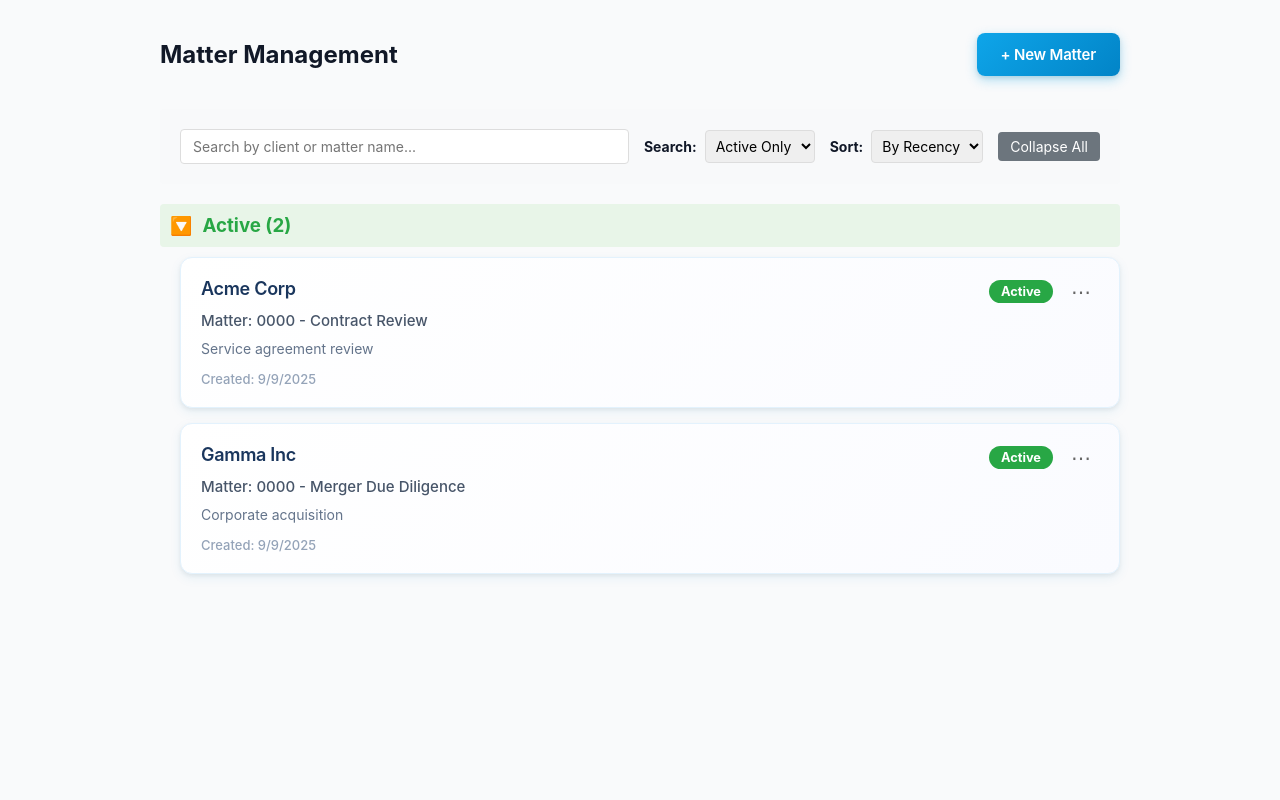
Test: MatterManagement - Search and Collapsible Sections › expands and collapses sections when clicked
Expected: the heading "Active (2)" is shown, 202,214 -> 291,237
# Search scope should default to "All Matters" to see all sections
Select "All Matters" in the dropdown showing "Active Only" next to "Search:" at (760, 146), box 705,130 -> 815,163
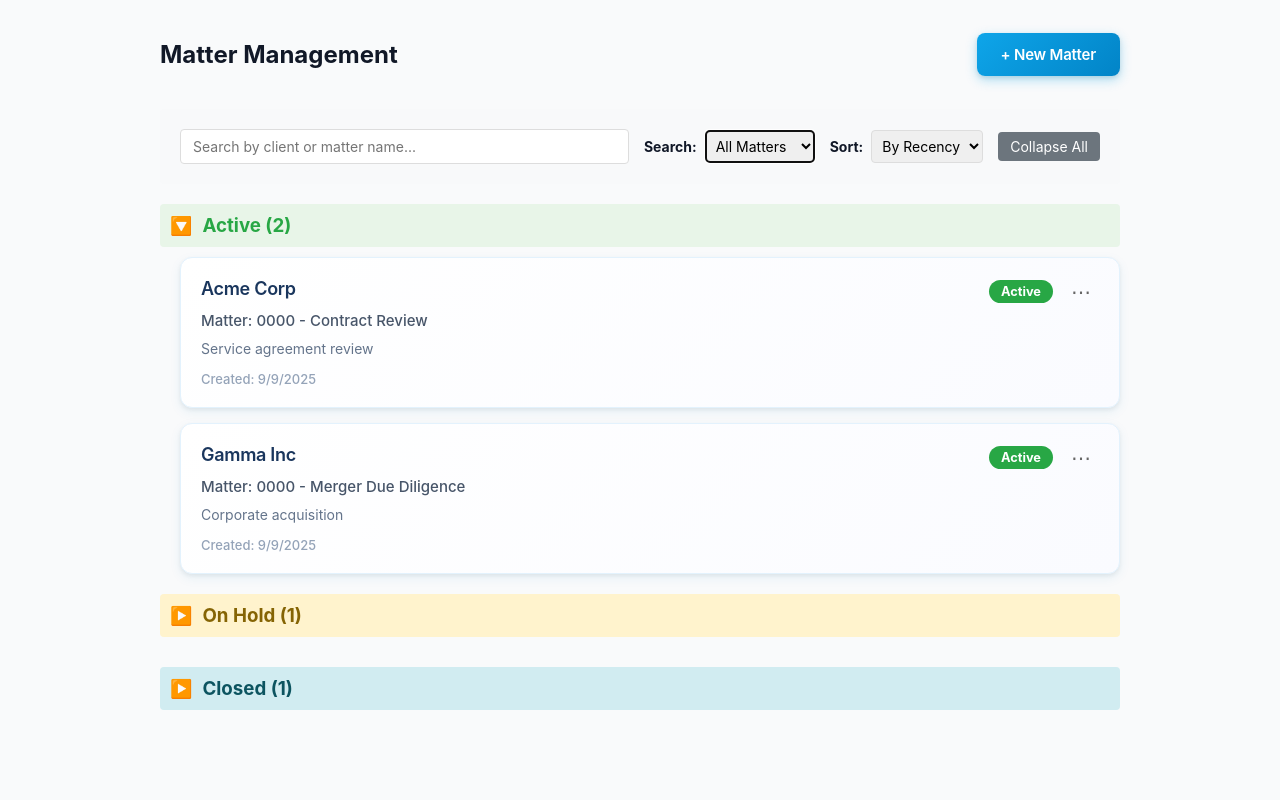
Result: the heading "On Hold (1)" is shown
Result: the heading "Closed (1)" is shown at 202,677 -> 293,700
# Click to expand On Hold section
Click the heading "On Hold (1)" at (252, 615), box 202,604 -> 302,627
(page scrolled)
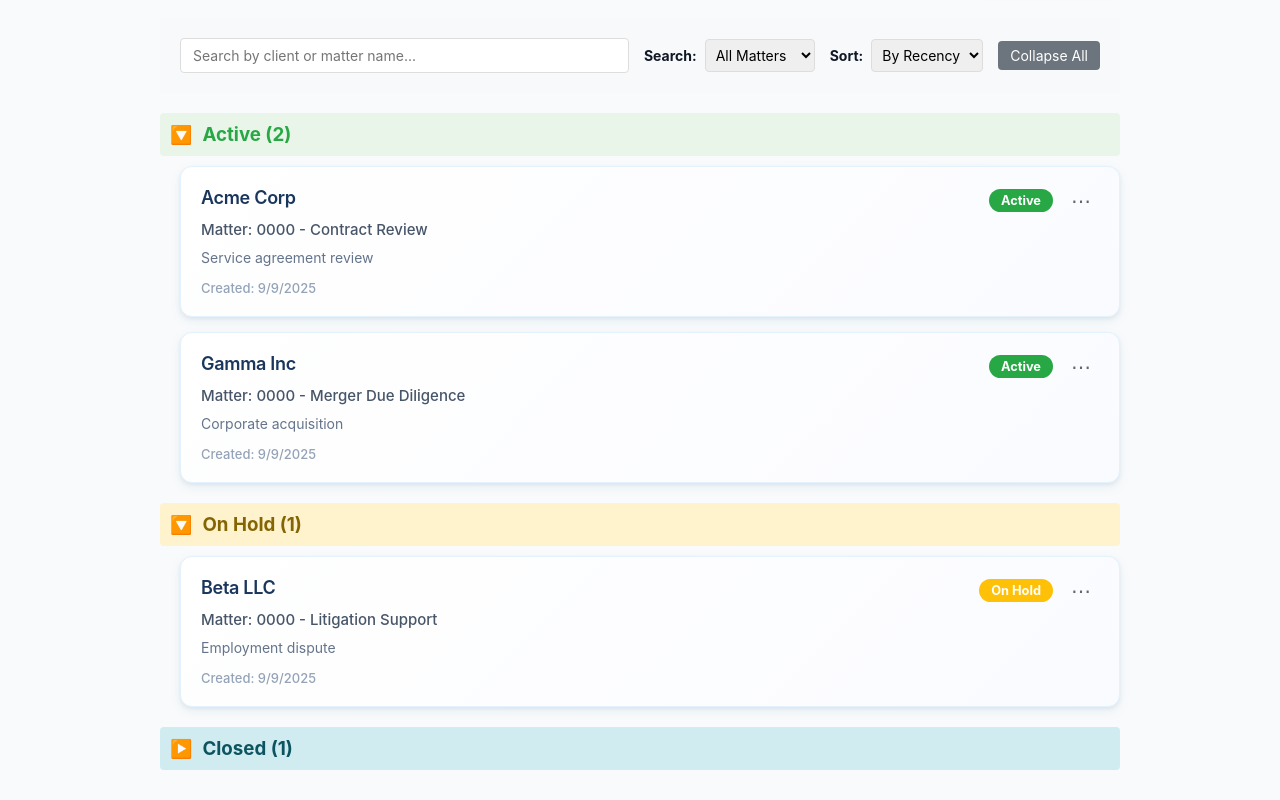
Result: the text "Matter: 0000 - Litigation Support" is shown at 201,610 -> 438,629
# Click to expand Closed section
Click the heading "Closed (1)" at (248, 748), box 202,737 -> 293,760
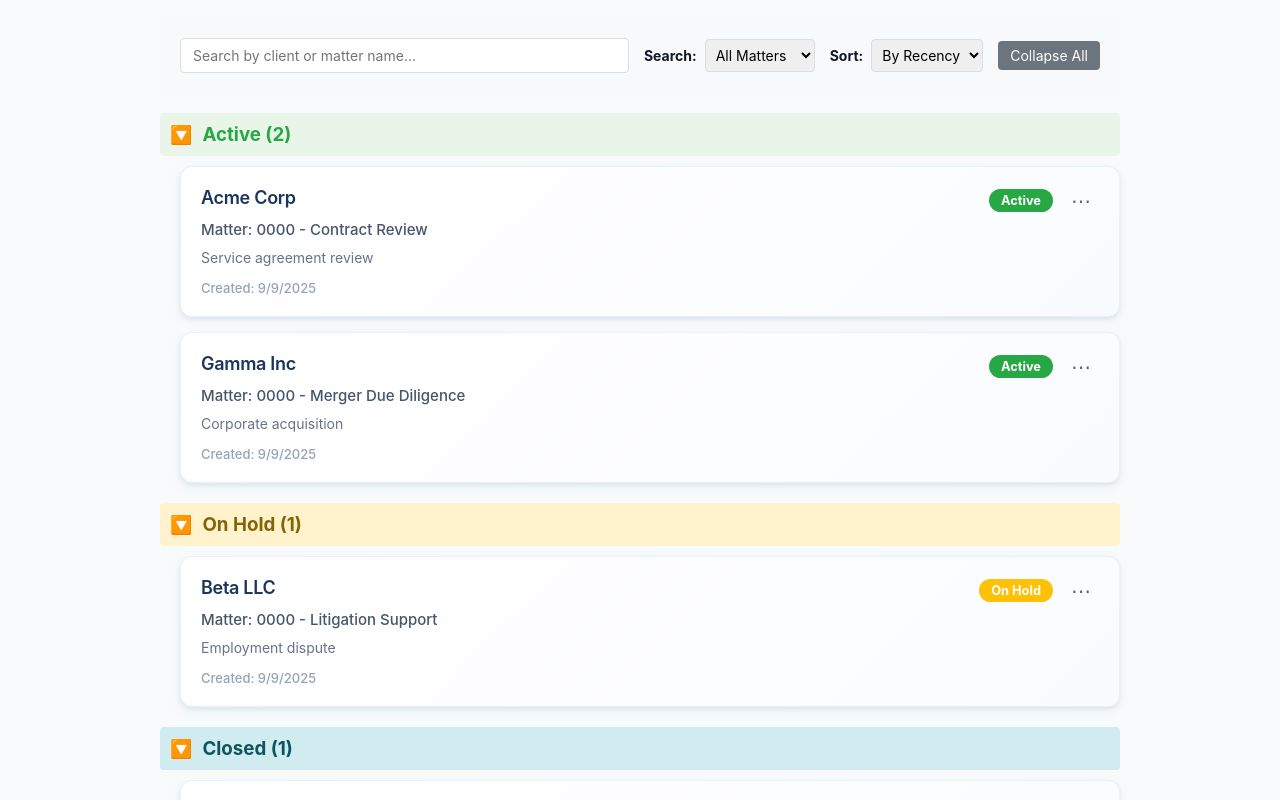
# Click to collapse Active section
Click the heading "Active (2)" at (247, 134), box 202,123 -> 291,146
(page scrolled)
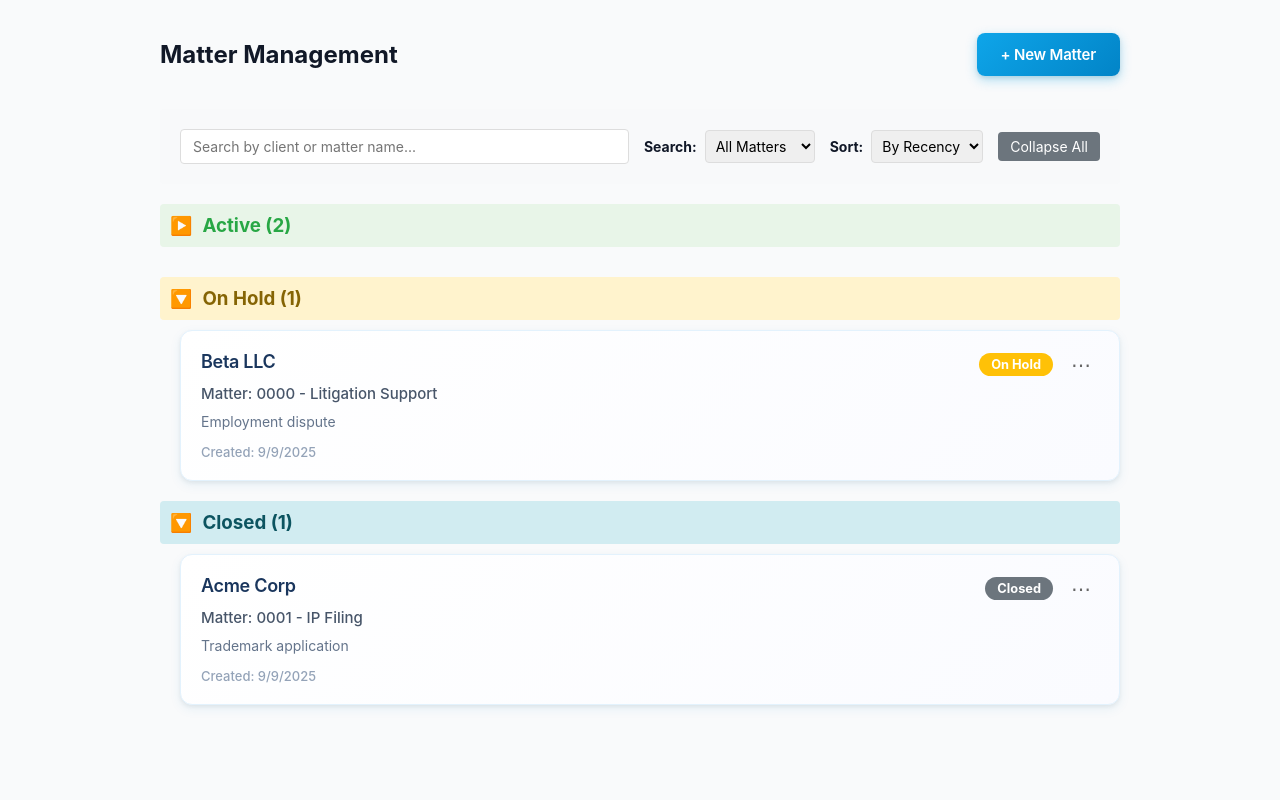
Result: the text "Contract Review" is gone
